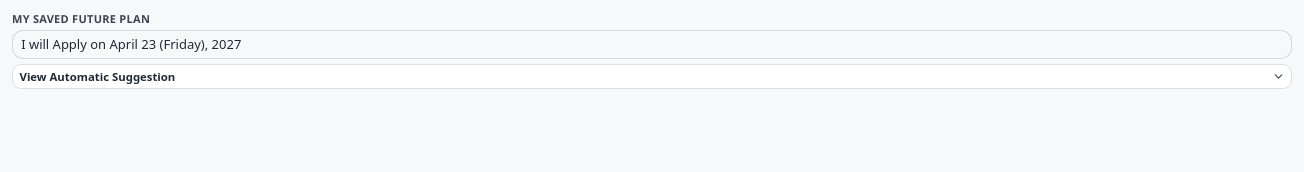
Test: FuturePlanCell › shows Already matches saved plan when texts equal
Click the button "View Automatic Suggestion" at (97, 76), box top-left (12, 64), bottom-right (1292, 89)
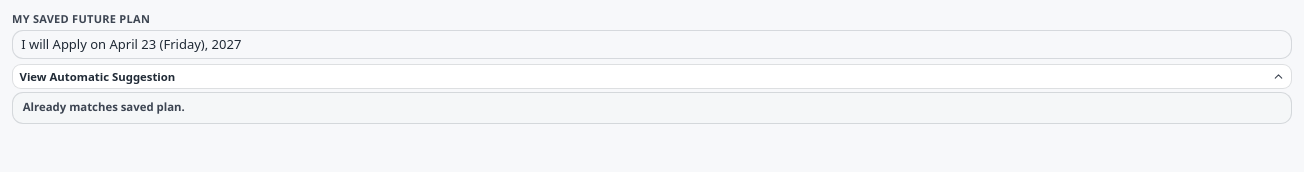
Expected: the text "Already matches saved plan." is shown, top-left (23, 100), bottom-right (185, 115)
